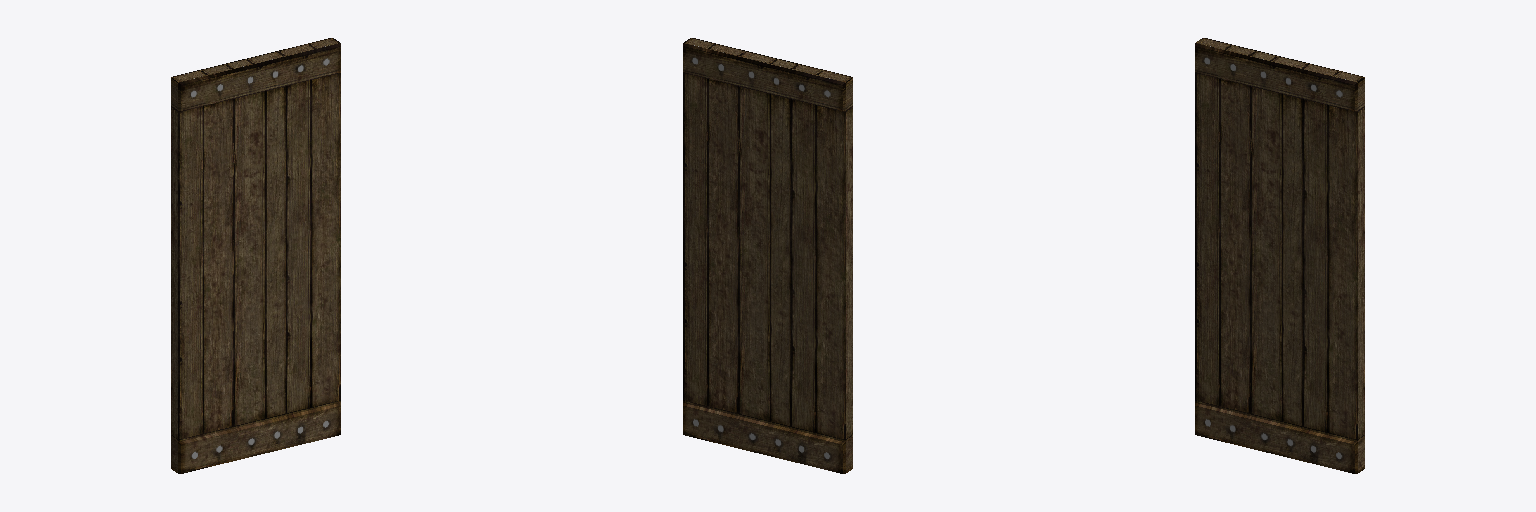
3 views of the same model, side by side, from view 1: azimuth 30°, elevation 25°; view 2: azimuth 150°, elevation 25°; view 3: azimuth 330°, elevation 25° (orthographic).
Visible parts, largest first — view 1: Box003; view 2: Box003; view 3: Box003.
Boxes of the visible parts, <box> form: Box003: <box>171,38,340,473</box>; Box003: <box>683,38,852,473</box>; Box003: <box>1195,38,1364,473</box>.
Size of the model in its own units: 0.7706 by 1.78 by 0.0885.
Materials: 1 (1 with a texture image).